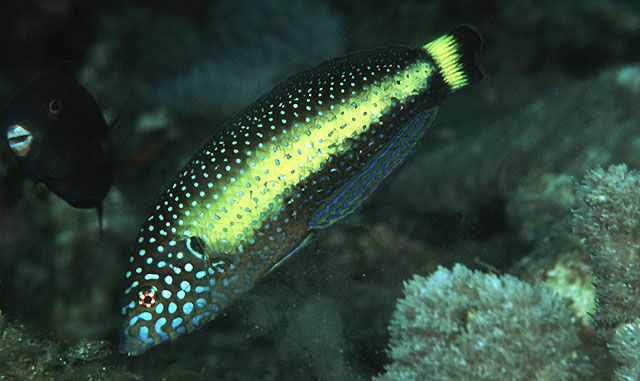fish: (119, 24, 485, 358)
